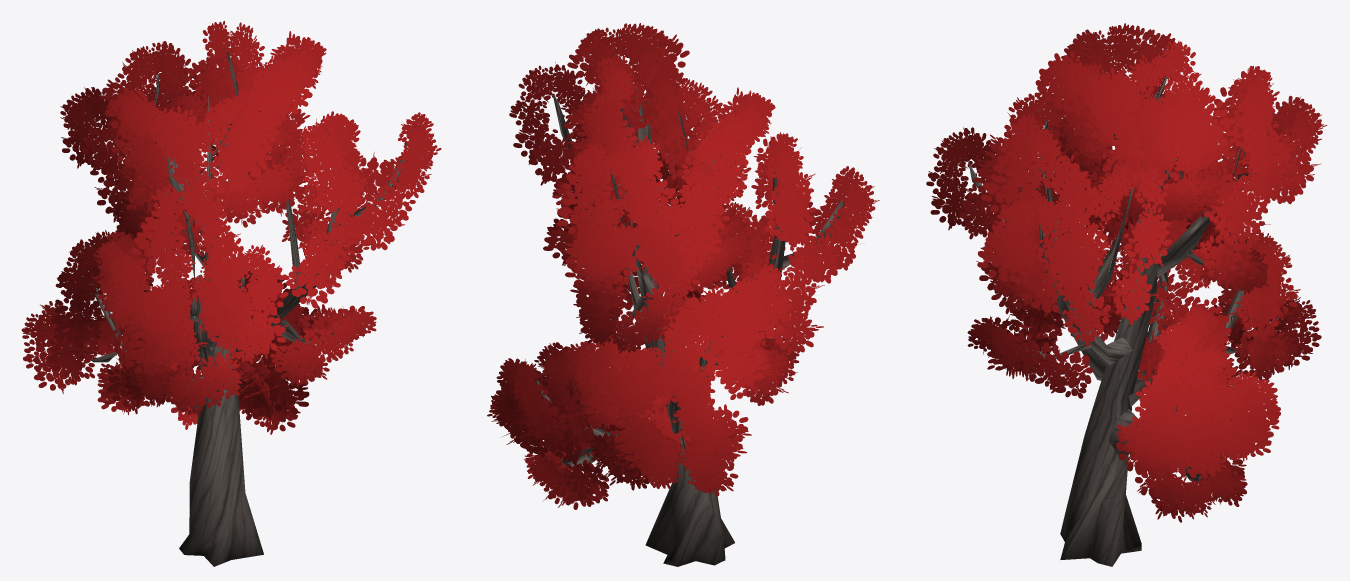
The model's file is TwistedTree_3@lod.gltf.
The picture shows the model from 3 angles, left to right: view 1: azimuth 30°, elevation 25°; view 2: azimuth 150°, elevation 25°; view 3: azimuth 270°, elevation 25°; orthographic projection. The views are drawn at different scales.
Visible parts, largest first — view 1: TwistedTree_3; view 2: TwistedTree_3; view 3: TwistedTree_3.
Boxes of the visible parts, x1=… form: TwistedTree_3: x1=21, y1=21, x2=441, y2=566; TwistedTree_3: x1=487, y1=23, x2=879, y2=566; TwistedTree_3: x1=926, y1=23, x2=1327, y2=566.
Bounding box in the file's own units: 11.36 × 16.07 × 11.51.
2 materials, 2 textured.
